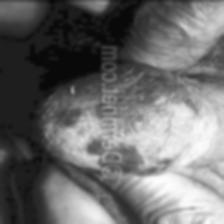Non-Cancerous Skin Condition: (62, 80, 188, 174)
